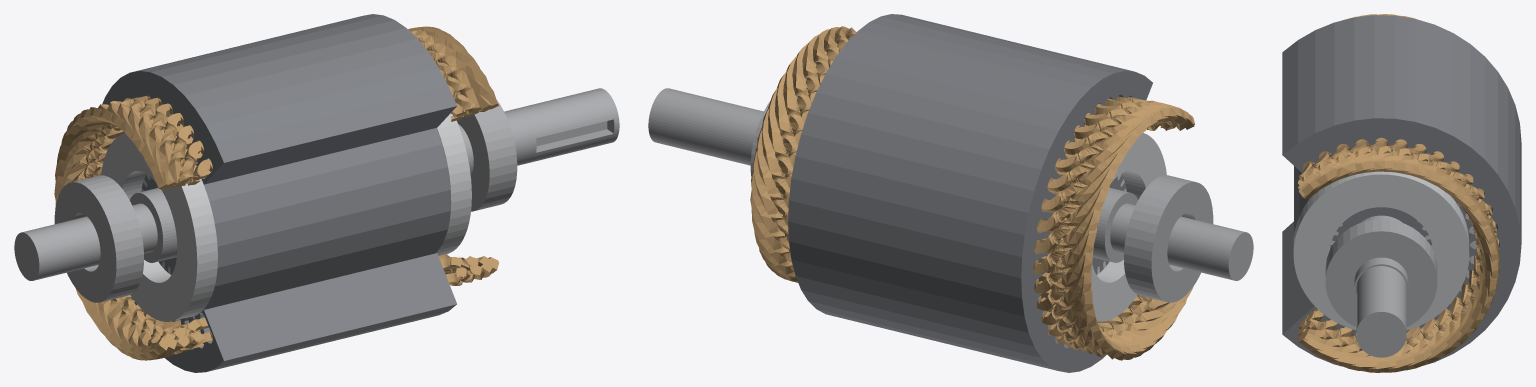
The model's file is internals_cutaway.glb.
3 views of the same model, side by side, from view 1: azimuth 30°, elevation 25°; view 2: azimuth 150°, elevation 25°; view 3: azimuth 270°, elevation 25° (orthographic). The views are drawn at different scales.
Visible parts, largest first — view 1: Stator_Core, Rotor_Core, Shaft, EndRing_NDE, Bearing_NDE, Bearing_DE, EndRing_DE, Coil_36, Coil_01_short, Coil_35, Coil_02, Coil_13 (+11 smaller); view 2: Stator_Core, Shaft, Bearing_NDE, EndRing_NDE, Coil_28, Coil_29, Coil_27, Coil_30, Coil_26, Coil_25, Coil_31, Coil_32 (+12 smaller); view 3: Stator_Core, EndRing_DE, Bearing_DE, Shaft, Rotor_Core, Coil_13, Coil_14, Coil_15, Coil_16, Coil_34, Coil_33, Coil_35 (+26 smaller).
Part boxes in pixels (box(x1,y1,x2,y2)): Stator_Core: box(102, 14, 456, 372); Rotor_Core: box(142, 128, 450, 315); Shaft: box(14, 88, 619, 280); EndRing_NDE: box(101, 133, 217, 321); Bearing_NDE: box(54, 175, 143, 302); Bearing_DE: box(456, 92, 517, 211); EndRing_DE: box(436, 113, 471, 256); Coil_36: box(149, 48, 498, 189); Coil_01_short: box(159, 57, 498, 188); Coil_35: box(138, 42, 489, 343); Coil_02: box(166, 70, 493, 187); Coil_13: box(117, 255, 475, 360); Stator_Core: box(788, 14, 1152, 372); Shaft: box(648, 88, 1253, 280); Bearing_NDE: box(1124, 175, 1213, 302); EndRing_NDE: box(1091, 133, 1166, 321); Coil_28: box(768, 61, 1118, 253); Coil_29: box(775, 51, 1127, 231); Coil_27: box(761, 73, 1109, 274); Coil_30: box(783, 43, 1137, 211); Coil_26: box(756, 84, 1102, 293); Coil_25: box(753, 101, 1096, 310); Coil_31: box(792, 39, 1147, 191); Coil_32: box(802, 32, 1158, 172); Stator_Core: box(1282, 15, 1521, 365); EndRing_DE: box(1293, 171, 1469, 330); Bearing_DE: box(1325, 219, 1437, 327); Shaft: box(1354, 215, 1408, 357); Rotor_Core: box(1294, 166, 1468, 249); Coil_13: box(1298, 204, 1491, 371); Coil_14: box(1307, 188, 1483, 372); Coil_15: box(1329, 174, 1473, 372); Coil_16: box(1345, 161, 1467, 370); Coil_34: box(1304, 16, 1425, 319); Coil_33: box(1341, 14, 1443, 178); Coil_35: box(1309, 141, 1405, 198).
Size of the model in its own units: 335 by 155 by 132.
